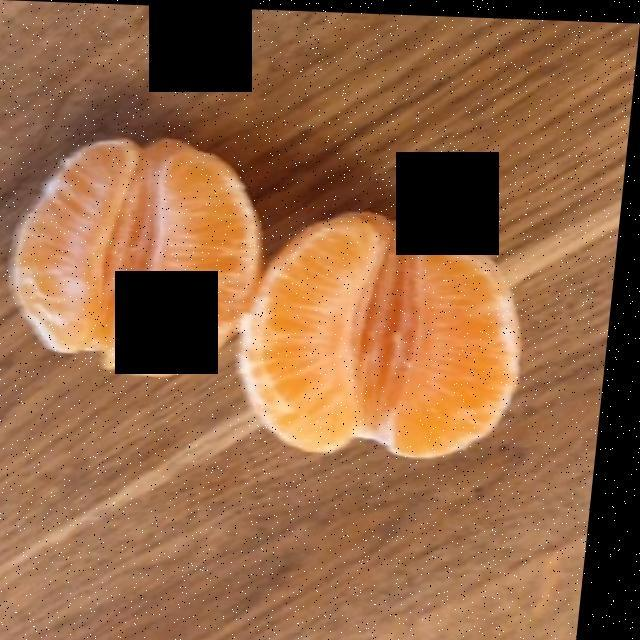mandarine: (21, 136, 525, 451)
